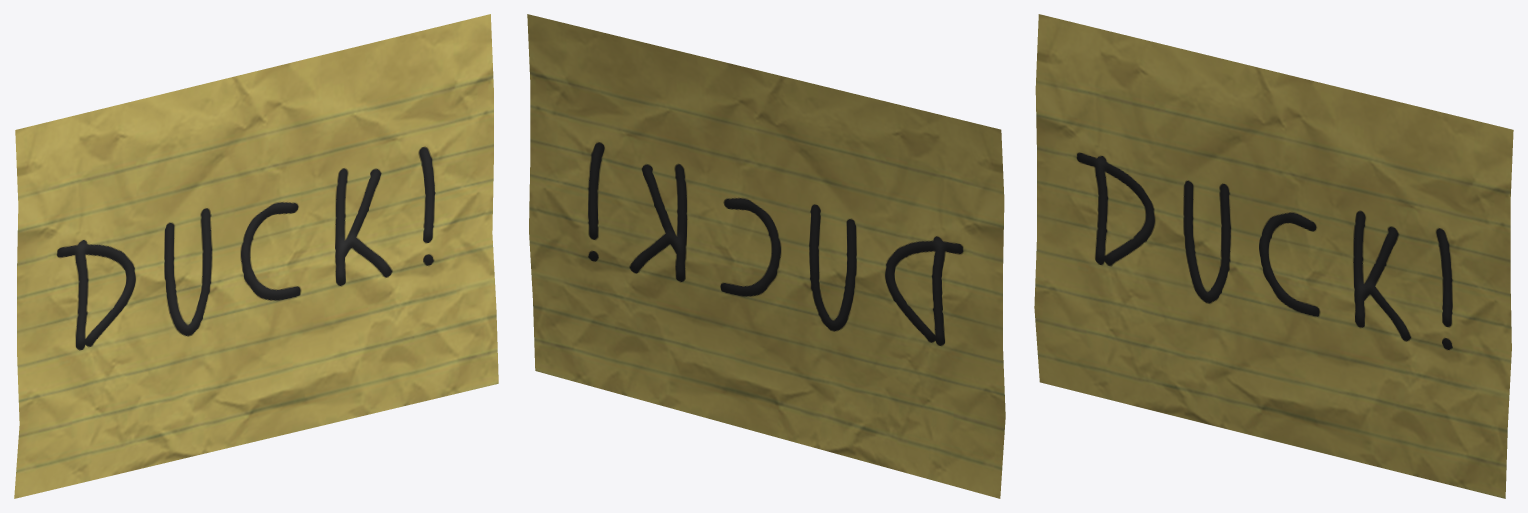
File: Duck_Note.fbx
3 views of the same model, side by side, from view 1: azimuth 30°, elevation 25°; view 2: azimuth 150°, elevation 25°; view 3: azimuth 330°, elevation 25° (orthographic).
Visible parts, largest first — view 1: Plane001; view 2: Plane001; view 3: Plane001.
Boxes of the visible parts, x1,y1,x2,y2 form: Plane001: (14, 14, 498, 498); Plane001: (527, 14, 1005, 498); Plane001: (1034, 14, 1513, 498).
Bounding box in the file's own units: 112 × 82.84 × 3.66.
Materials: 1 (1 with a texture image).
